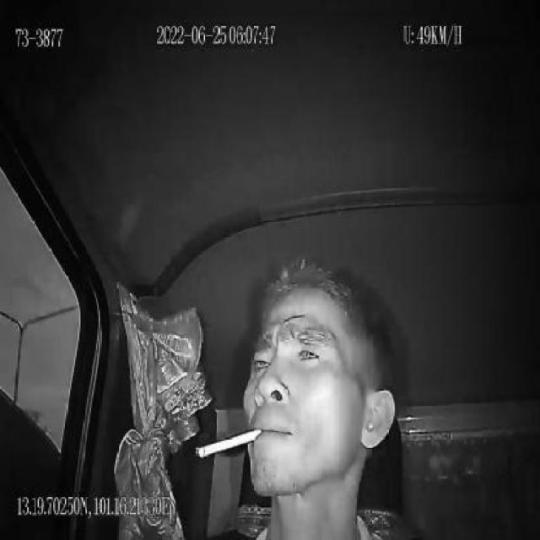smoking: (197, 423, 264, 462)
